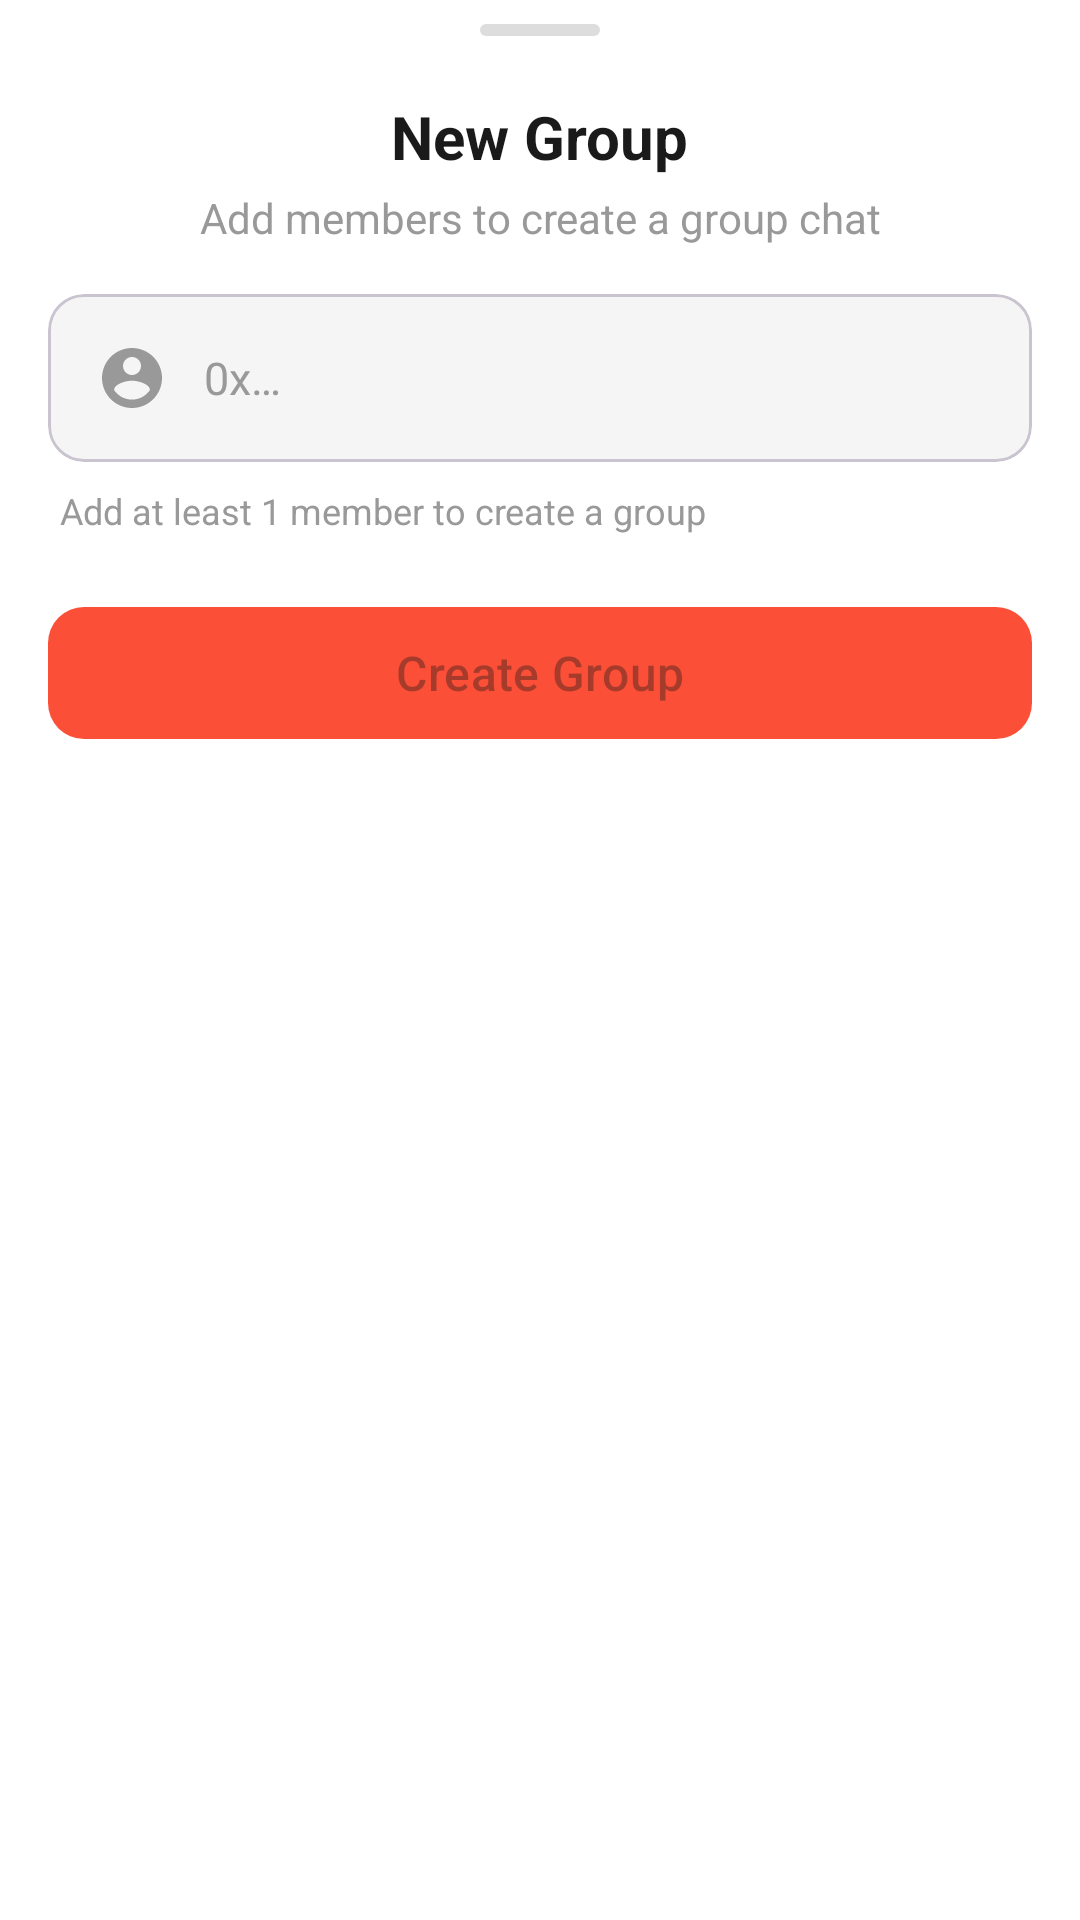

Named icons in this screenshot (1080px×1920px) and their bounding boxes, (x1, y1, x2, y2):
account circle: (102, 348, 162, 408)
